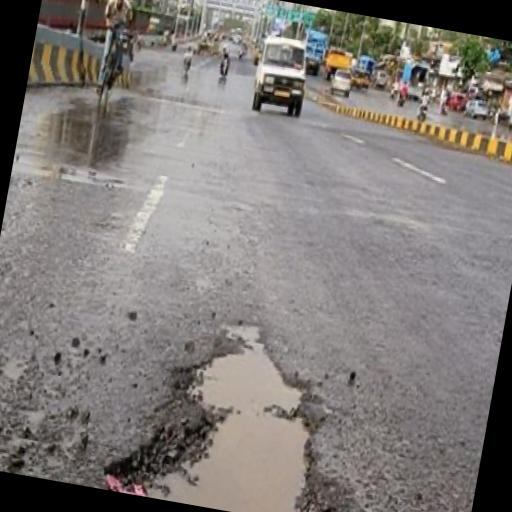pothole: (98, 311, 379, 512)
